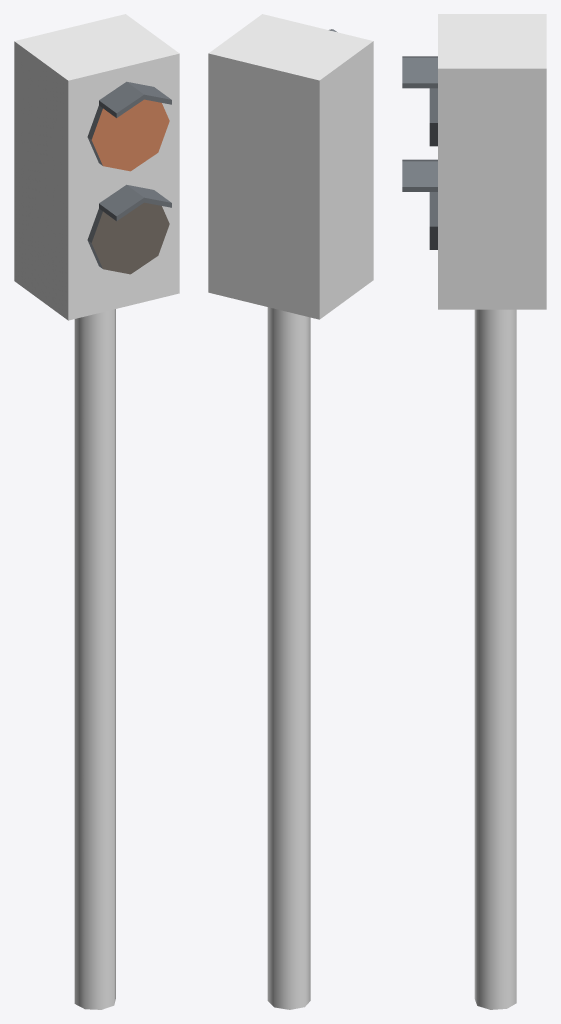
Rendered from trafficlight.fbx.
3 renders of one model, left to right at view 1: azimuth 30°, elevation 25°; view 2: azimuth 150°, elevation 25°; view 3: azimuth 270°, elevation 25°, orthographic.
Parts seen in each view (by area): view 1: polySurface481; view 2: polySurface481; view 3: polySurface481.
Part boxes in pixels (box(x1,y1,x2,y2)): polySurface481: box(14, 14, 179, 1009); polySurface481: box(208, 14, 373, 1009); polySurface481: box(402, 14, 546, 1009).
Bounding box in the file's own units: 0.1752 × 1.44 × 0.1954.
